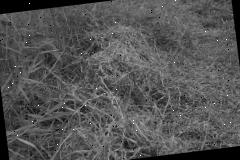organic: (0, 29, 44, 113), (104, 31, 155, 94)
